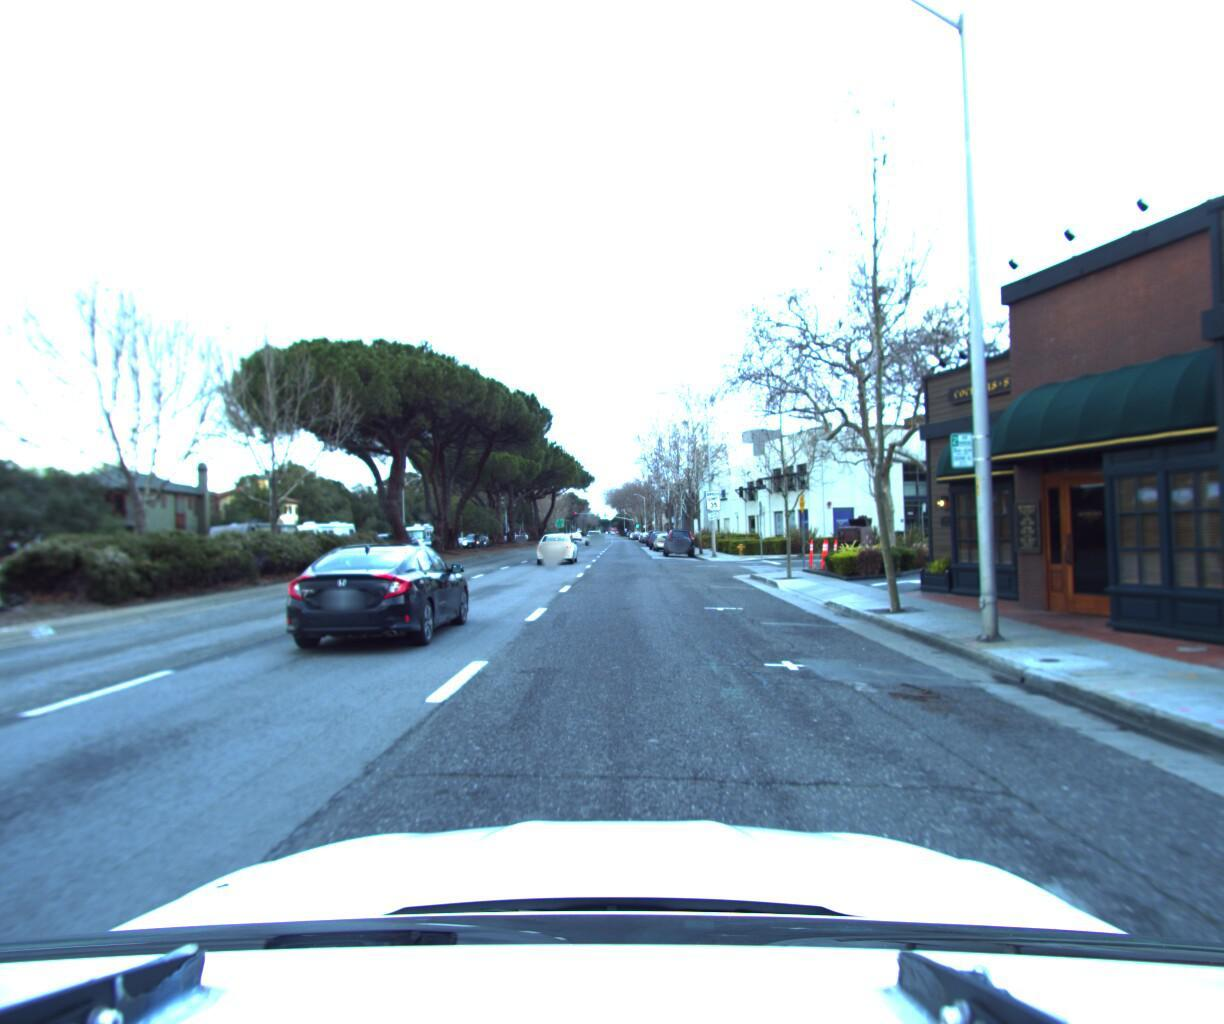car: (277, 536, 480, 658), (534, 527, 579, 561), (663, 522, 696, 554), (0, 554, 22, 602)
other_vehicle: (201, 515, 304, 569), (278, 516, 361, 561)
